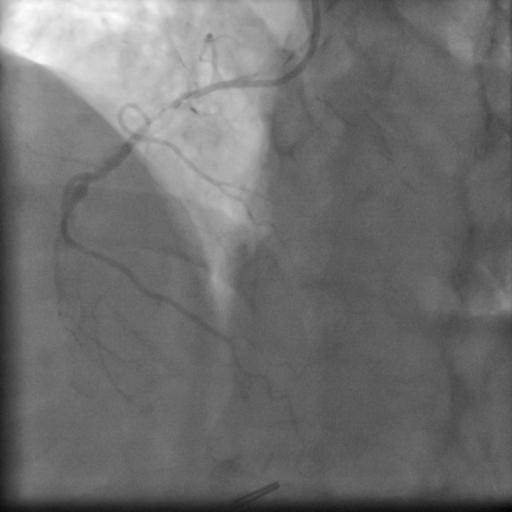Stenosis: (142, 98, 179, 125)
